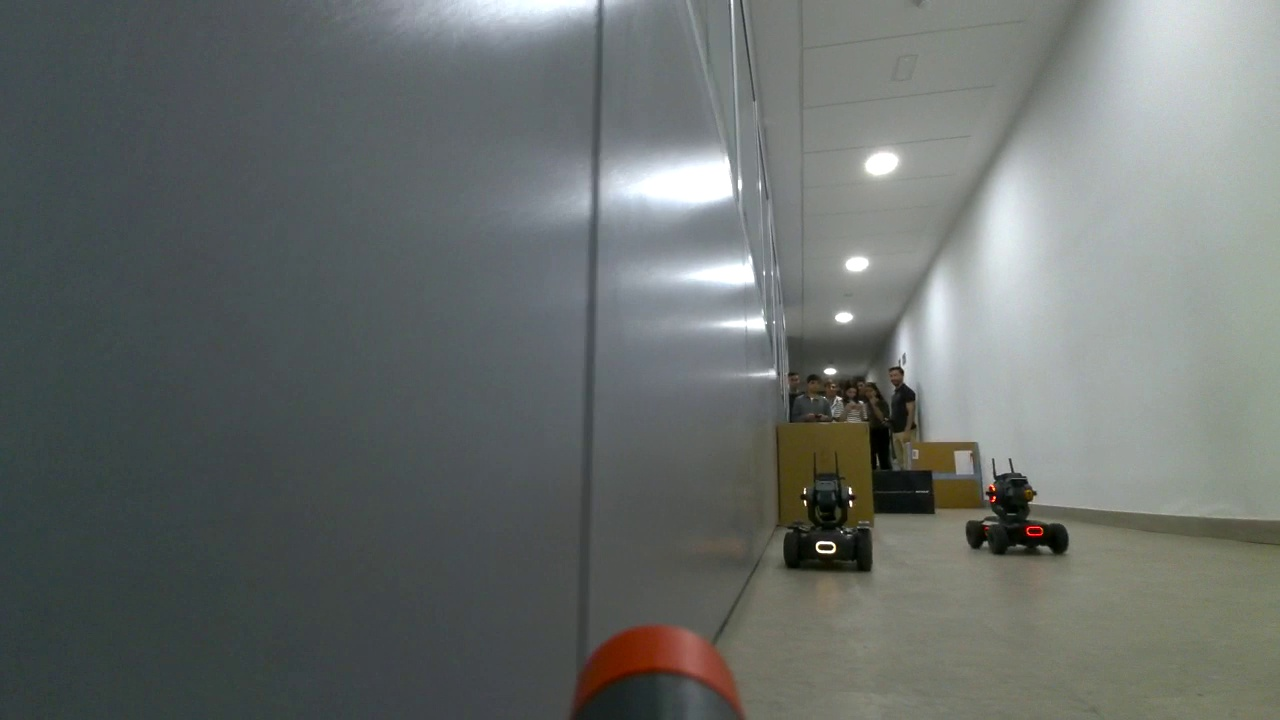robot: (780, 473, 876, 575), (962, 472, 1069, 559)
